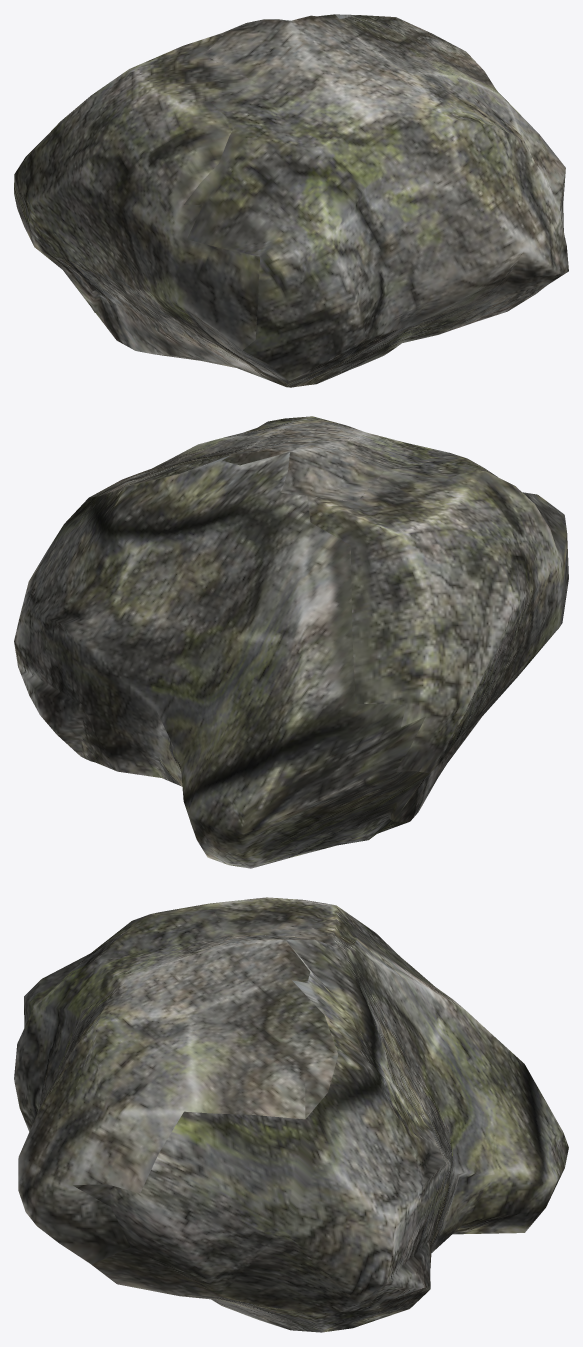
File: rock3_LOD1.FBX
3 views of the same model, one above another, from view 1: azimuth 30°, elevation 25°; view 2: azimuth 150°, elevation 25°; view 3: azimuth 270°, elevation 25° (orthographic). The views are drawn at different scales.
Visible parts, largest first — view 1: rock3_LOD1; view 2: rock3_LOD1; view 3: rock3_LOD1.
Boxes of the visible parts, <box> form: rock3_LOD1: <box>14,14,568,387</box>; rock3_LOD1: <box>14,416,568,868</box>; rock3_LOD1: <box>14,897,568,1332</box>.
Bounding box in the file's own units: 125 × 89.19 × 134.
